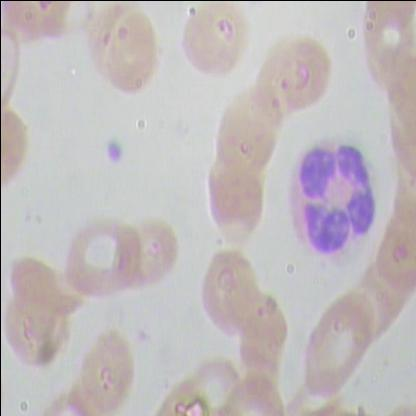Platelets: (92, 133, 130, 164)
RBC: (296, 290, 384, 402), (187, 241, 267, 345), (193, 148, 276, 246), (207, 82, 290, 180), (254, 32, 337, 130), (81, 1, 165, 97), (343, 252, 415, 360), (173, 1, 257, 89), (58, 214, 142, 298), (0, 287, 78, 371), (72, 326, 144, 416), (4, 244, 85, 322), (360, 2, 415, 99), (115, 214, 182, 292), (372, 192, 415, 307), (231, 294, 287, 379), (377, 131, 415, 247), (181, 354, 245, 415), (380, 87, 415, 182), (380, 45, 415, 140), (225, 375, 292, 415), (361, 1, 415, 37)
WBC: (279, 134, 381, 260)
